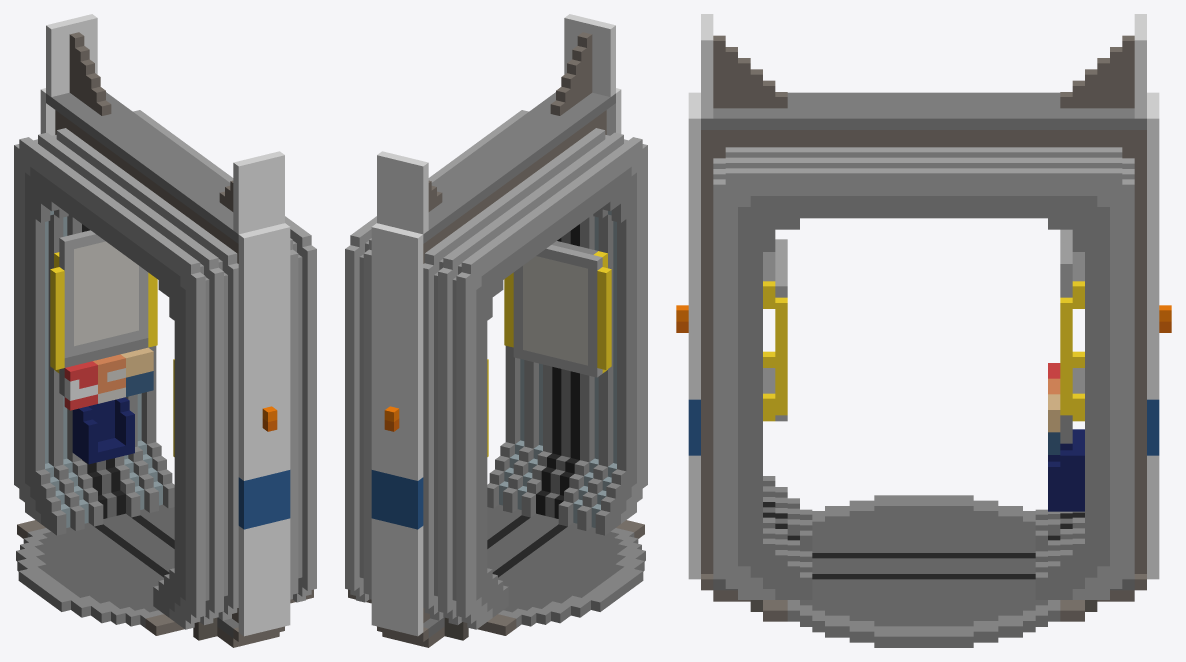
File: vbgbellow.obj
3 views of the same model, side by side, from view 1: azimuth 30°, elevation 25°; view 2: azimuth 150°, elevation 25°; view 3: azimuth 270°, elevation 25° (orthographic). The views are drawn at different scales.
Visible parts, largest first — view 1: FRAME, INTERIOR_LCG_il_GLOBAL_LINVERT; view 2: FRAME, INTERIOR_LCG_il_GLOBAL_LINVERT; view 3: FRAME, INTERIOR_LCG_il_GLOBAL_LINVERT.
Boxes of the visible parts, x1,y1,x2,y2 form: FRAME: (14, 14, 316, 647); INTERIOR_LCG_il_GLOBAL_LINVERT: (16, 167, 185, 627); FRAME: (345, 14, 647, 647); INTERIOR_LCG_il_GLOBAL_LINVERT: (476, 167, 645, 627); FRAME: (688, 14, 1159, 621); INTERIOR_LCG_il_GLOBAL_LINVERT: (738, 196, 1109, 647).
Size of the model in its own units: 1.69 by 3.19 by 2.5.
Materials: 1 (1 with a texture image).
